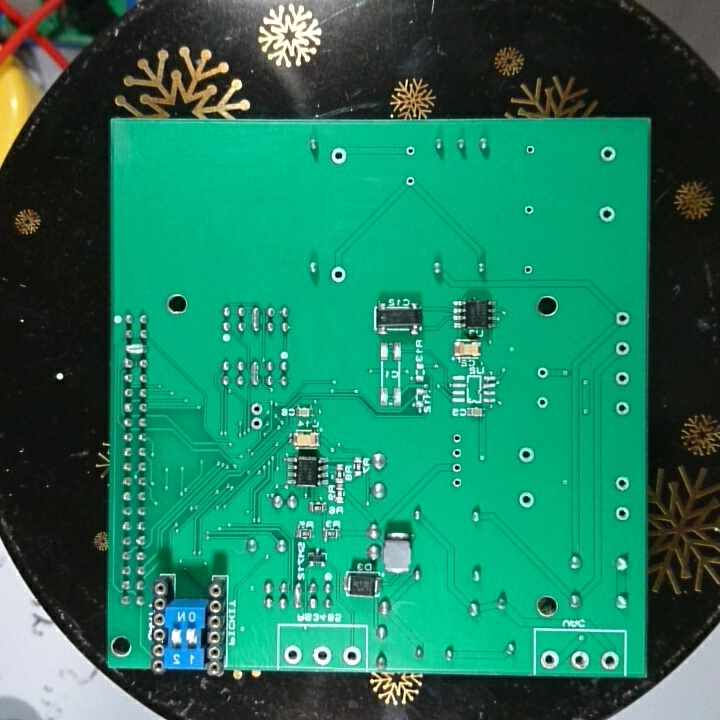F: (310, 640, 336, 666), (538, 647, 562, 671), (570, 647, 593, 672), (339, 643, 364, 666), (595, 144, 621, 166), (599, 647, 621, 673), (327, 146, 350, 170), (611, 306, 634, 329), (281, 643, 304, 666), (516, 442, 537, 466), (597, 203, 618, 226), (612, 398, 633, 420), (516, 489, 537, 510), (613, 337, 632, 360), (612, 369, 633, 389), (328, 263, 348, 283), (613, 475, 633, 495), (613, 503, 633, 523), (447, 458, 469, 475), (534, 363, 551, 384), (533, 393, 551, 412), (448, 444, 467, 462), (247, 415, 265, 434), (248, 401, 267, 417), (450, 430, 467, 445), (404, 173, 419, 189), (522, 202, 537, 218), (450, 475, 464, 492), (524, 142, 537, 160), (405, 143, 419, 159), (521, 263, 535, 278)
P: (247, 302, 263, 337), (123, 342, 153, 356), (290, 582, 304, 612), (248, 358, 261, 388)
